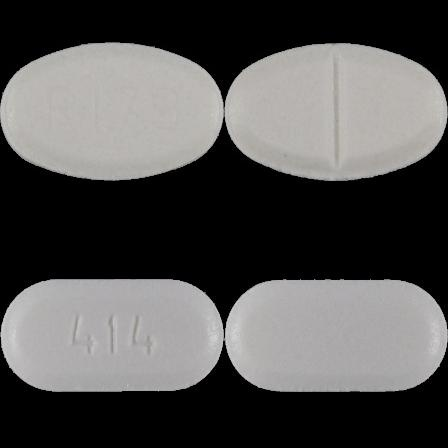50090-0811: (0, 0, 224, 224)
